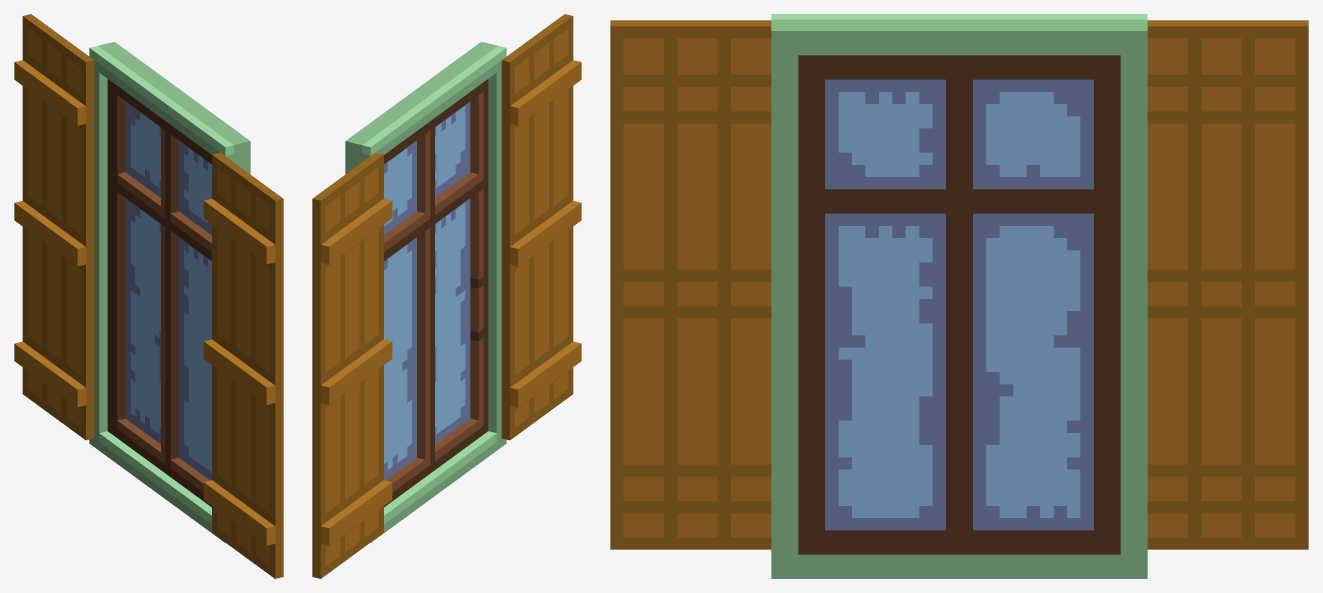
The model's file is window_textured_big_orange_green.glb.
The picture shows the model from 3 angles, left to right: view 1: azimuth 30°, elevation 25°; view 2: azimuth 150°, elevation 25°; view 3: azimuth 270°, elevation 25°; orthographic projection. The views are drawn at different scales.
Parts seen in each view (by area): view 1: window_textured_big_orange_green; view 2: window_textured_big_orange_green; view 3: window_textured_big_orange_green.
Part boxes in pixels (<box>): window_textured_big_orange_green: <box>14,14,283,578</box>; window_textured_big_orange_green: <box>312,14,581,578</box>; window_textured_big_orange_green: <box>610,14,1308,578</box>.
Size of the model in its own units: 0.5 by 4.5 by 5.2.
Materials: 1 (1 with a texture image).
